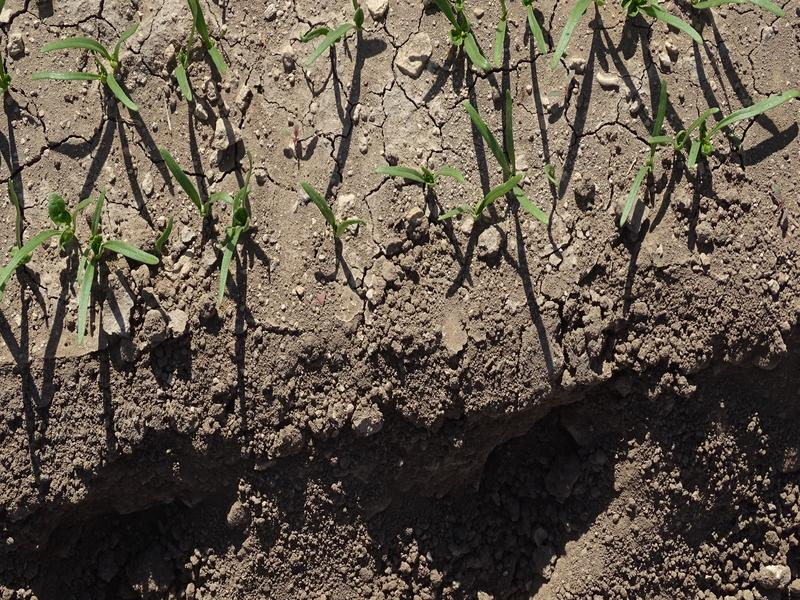Espinaca: (371, 101, 551, 228), (626, 86, 797, 218), (9, 207, 161, 327), (426, 1, 721, 53), (31, 26, 144, 111), (167, 1, 245, 99), (209, 182, 261, 300), (300, 180, 367, 237), (305, 19, 370, 73), (737, 1, 791, 20)
